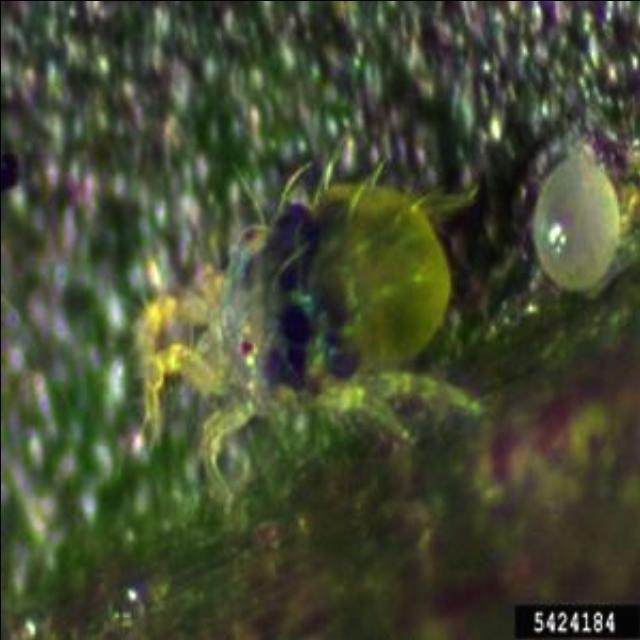spider mite: (78, 156, 486, 564)
